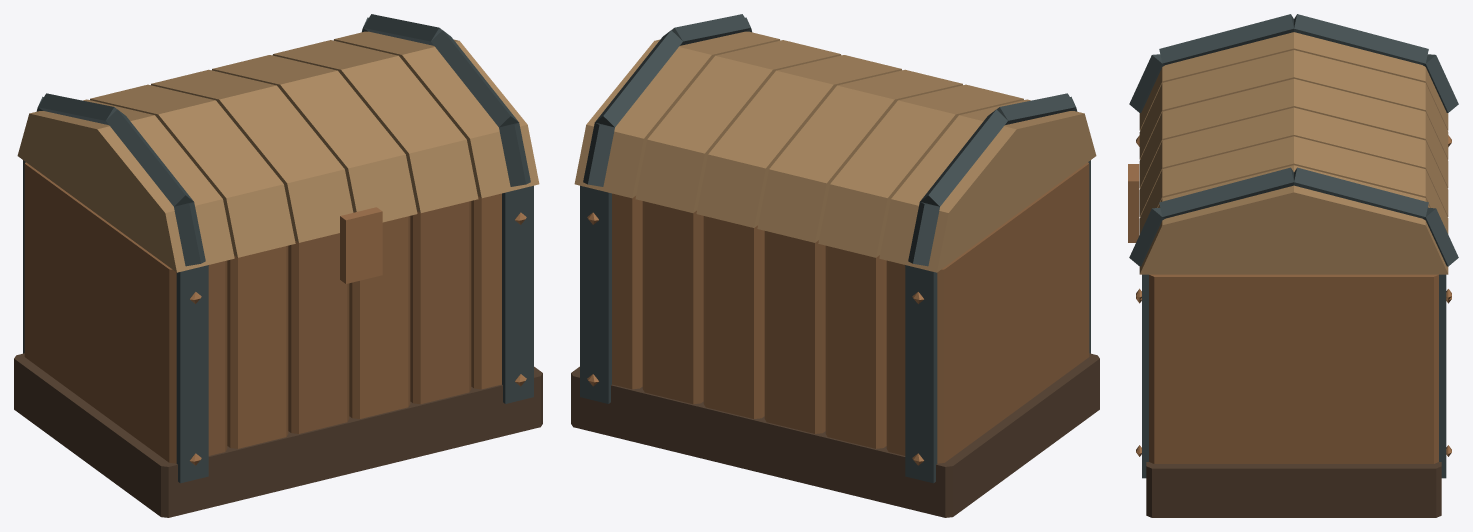
Rendered from chest_big.glb.
The picture shows the model from 3 angles, left to right: view 1: azimuth 30°, elevation 25°; view 2: azimuth 150°, elevation 25°; view 3: azimuth 270°, elevation 25°; orthographic projection. The views are drawn at different scales.
Visible parts, largest first — view 1: geometry, lid; view 2: geometry, lid; view 3: lid, geometry.
Boxes of the visible parts, x1=… form: geometry: x1=14, y1=160, x2=542, y2=517; lid: x1=17, y1=14, x2=539, y2=283; geometry: x1=571, y1=160, x2=1099, y2=517; lid: x1=574, y1=14, x2=1096, y2=272; lid: x1=1128, y1=14, x2=1458, y2=274; geometry: x1=1136, y1=135, x2=1451, y2=517.
Bounding box in the file's own units: 0.94 × 0.819 × 0.7286.
